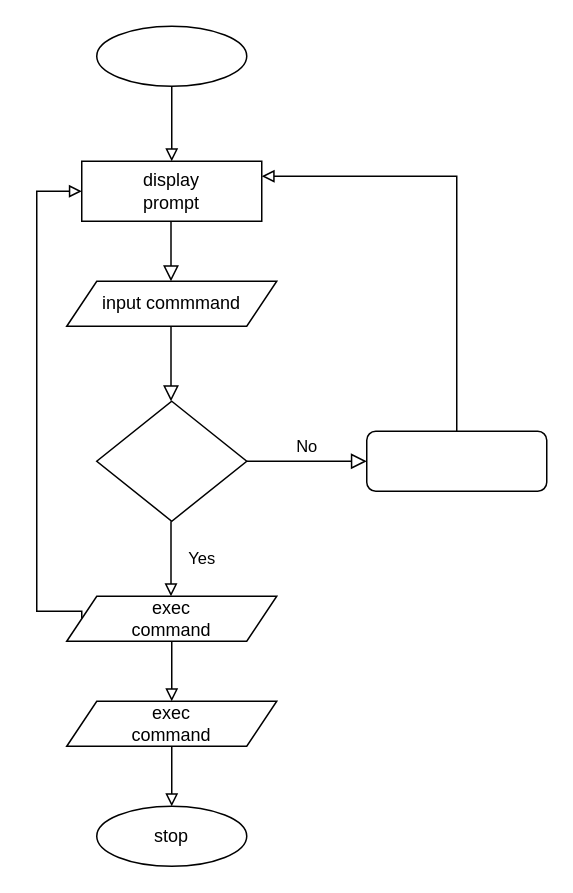
Image size: 573x893. Some labels were removed from this diagram. The box of each missing label's shape, as (x1, y1, x2, y2) in pixels:
command exist: (95, 400, 247, 521)
command not found: (365, 430, 547, 491)
start: (95, 25, 247, 86)
